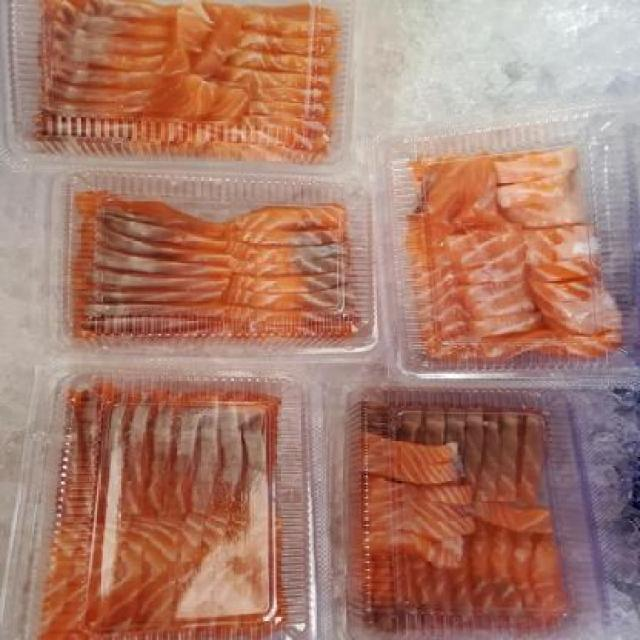salmon: (29, 366, 299, 639), (49, 169, 374, 350), (348, 389, 578, 640), (394, 132, 628, 366), (17, 5, 343, 162)
